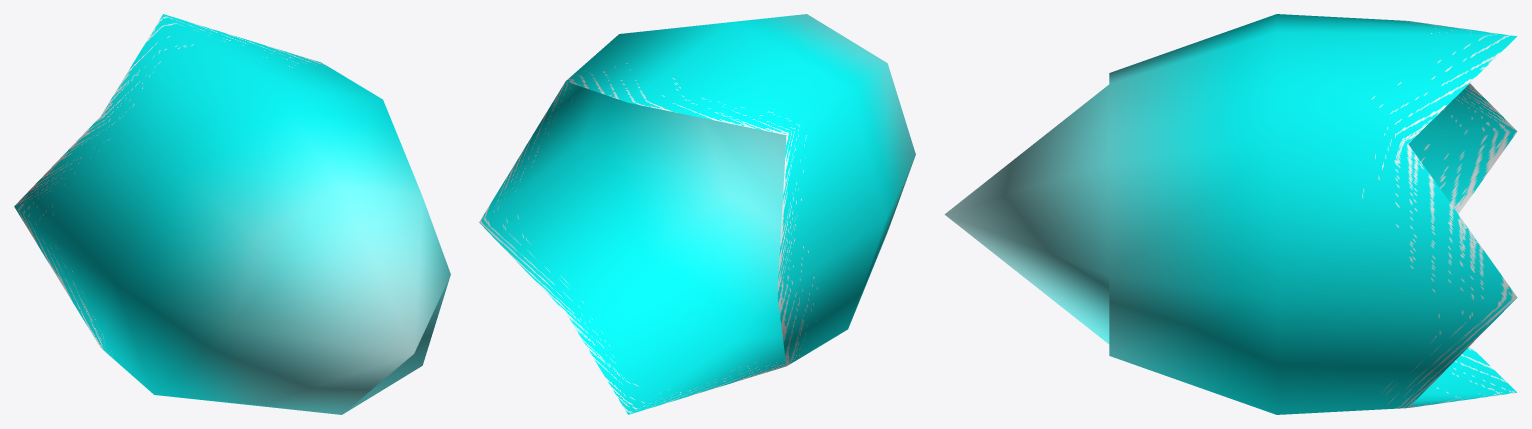
The model's file is HoloBullet.fbx.
3 renders of one model, left to right at view 1: azimuth 30°, elevation 25°; view 2: azimuth 150°, elevation 25°; view 3: azimuth 270°, elevation 25°, orthographic. The views are drawn at different scales.
Parts seen in each view (by area): view 1: pCube3; view 2: pCube3; view 3: pCube3.
Boxes of the visible parts, box(x1,y1,x2,y2) form: pCube3: box(14, 14, 450, 414); pCube3: box(479, 14, 915, 414); pCube3: box(944, 14, 1517, 414).
Bounding box in the file's own units: 0.4506 × 0.4506 × 0.642.
1 material, 1 textured.
